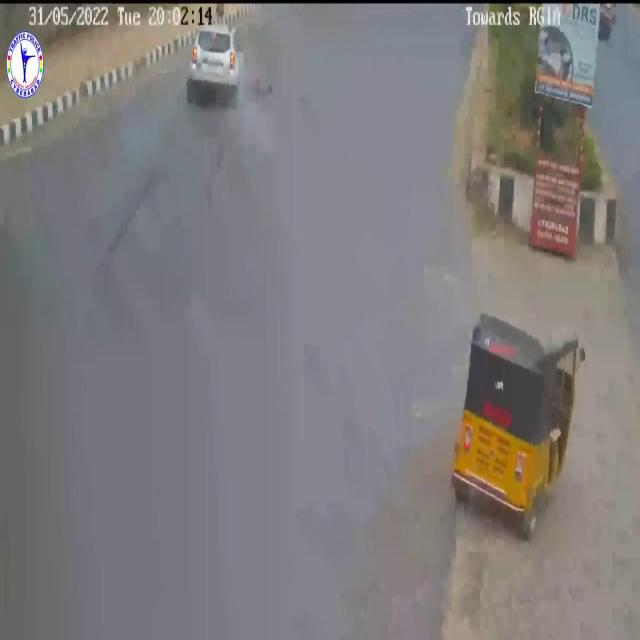accident: (179, 19, 277, 130)
